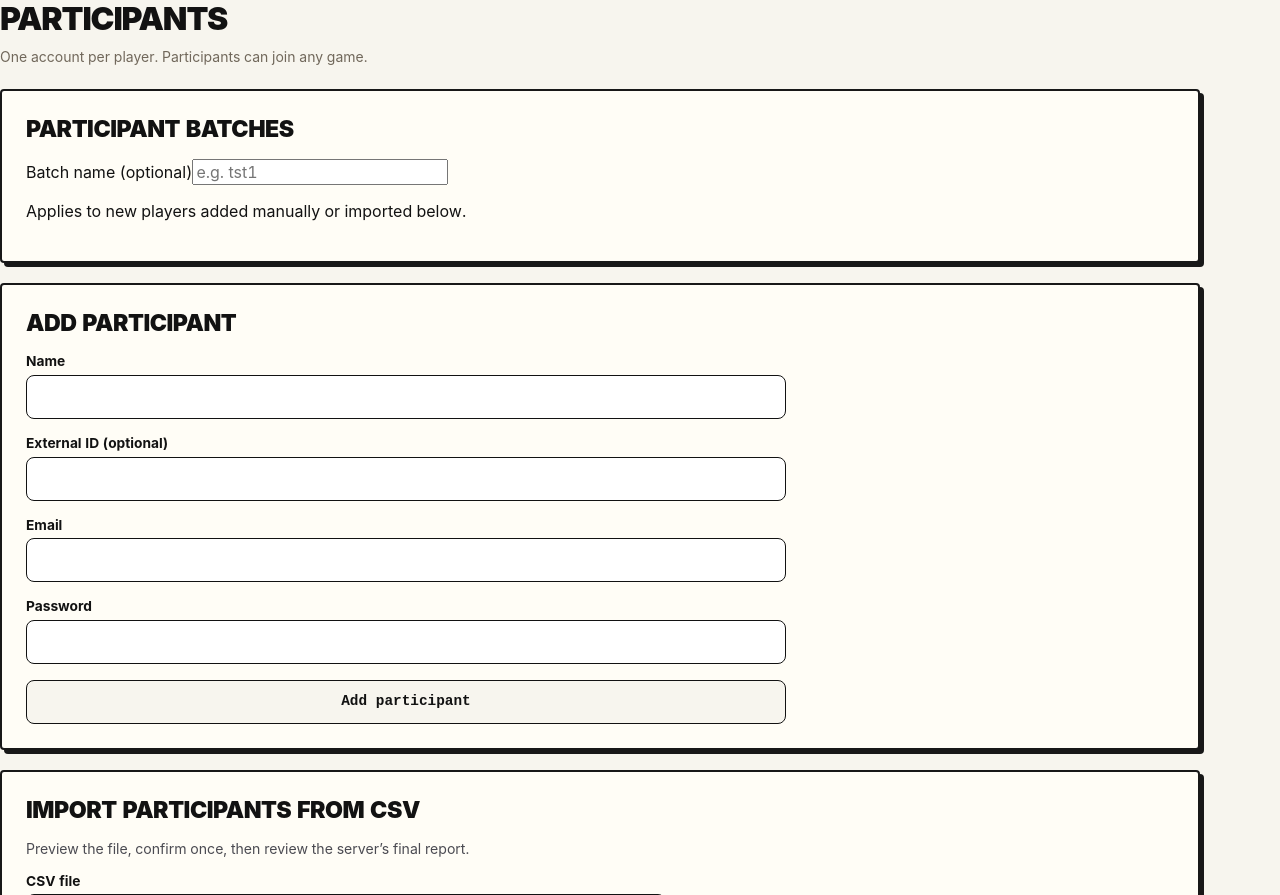
Test: deactivates and reactivates the selected participant using the profile ID
The width and height of the screenshot is (1280, 895).
Type "Test Player" into the field labelled "Name" at [406, 397], box 26,375 -> 786,419
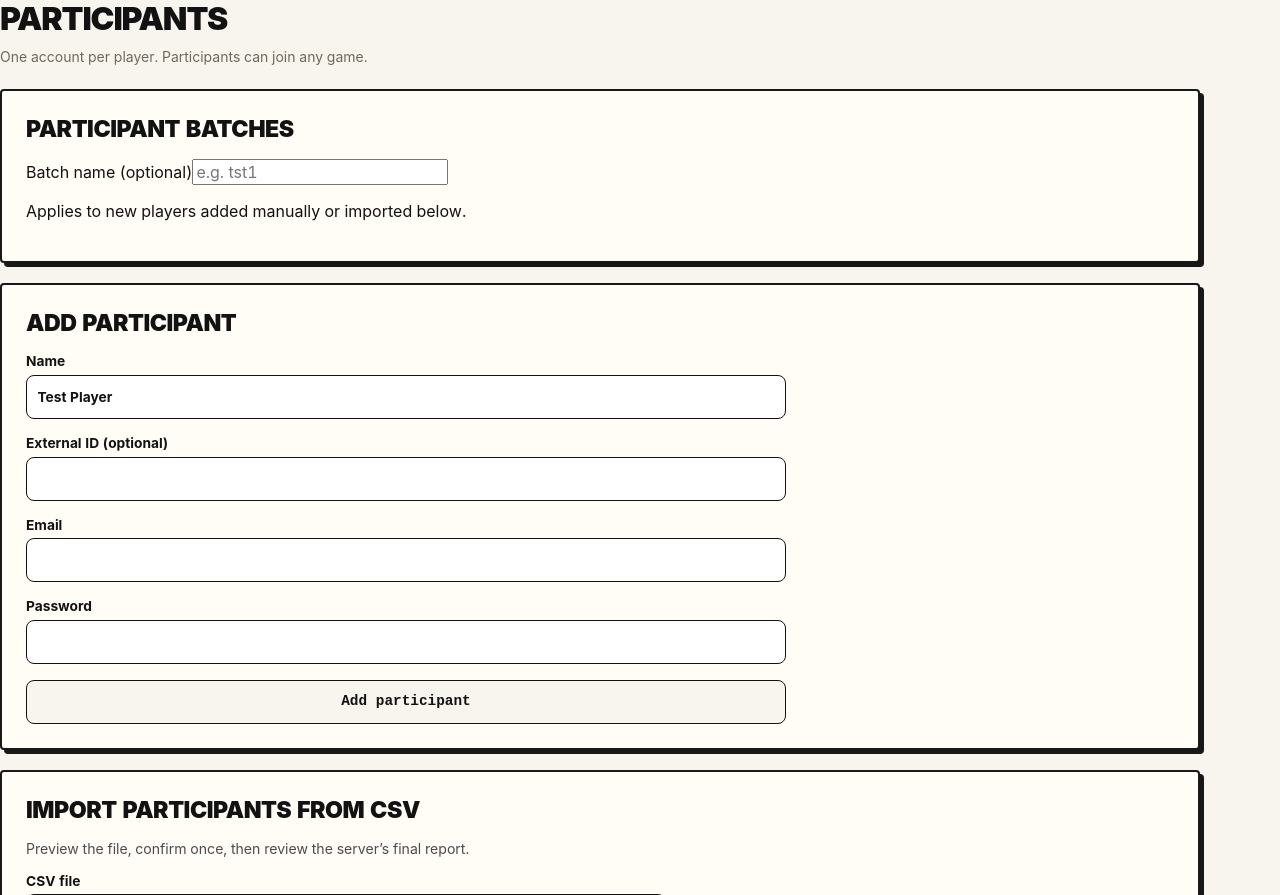
Type "player@example.test" into the field labelled "Email" at [406, 560], box 26,538 -> 786,582
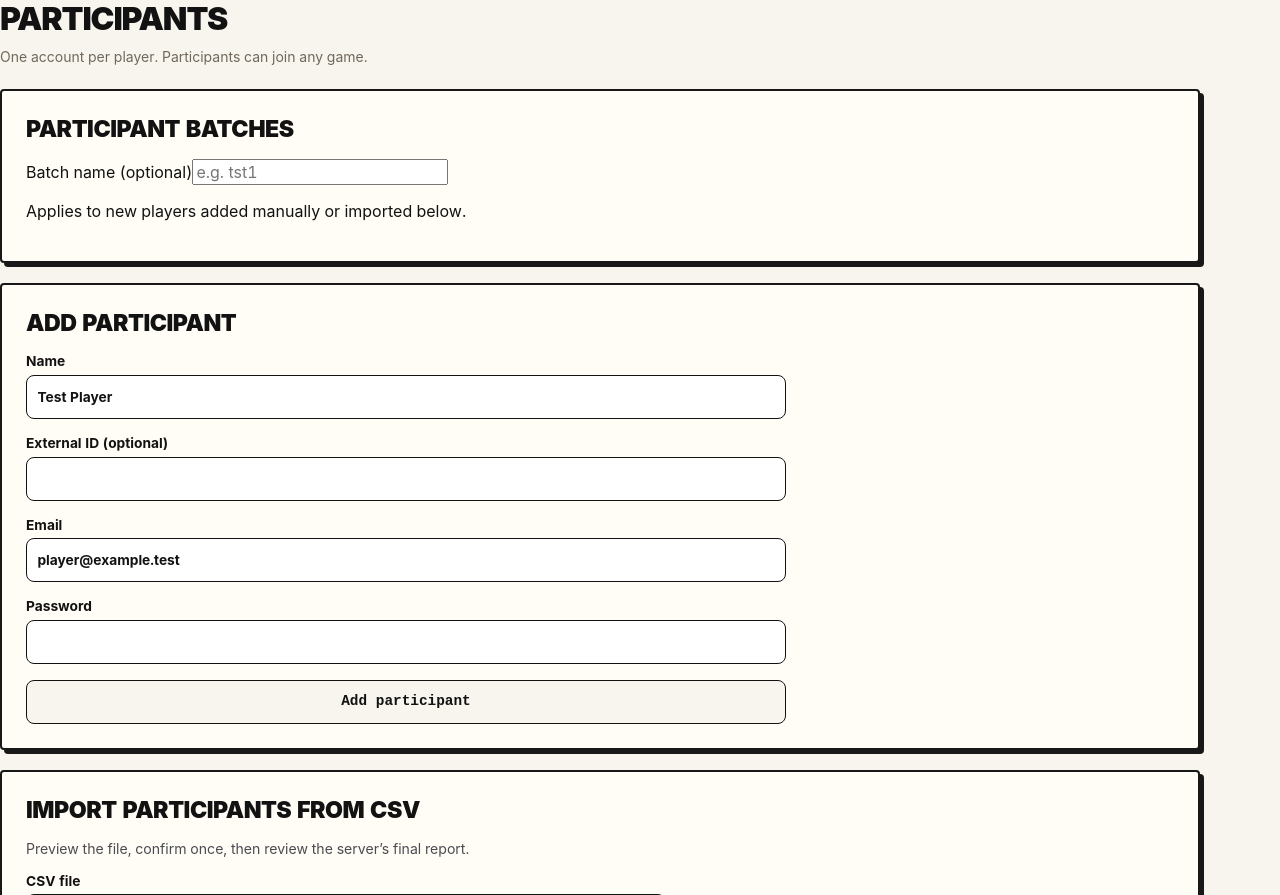
Type "test-password-123" into the password field labelled "Password" at [406, 642], box 26,620 -> 786,664
(page scrolled)
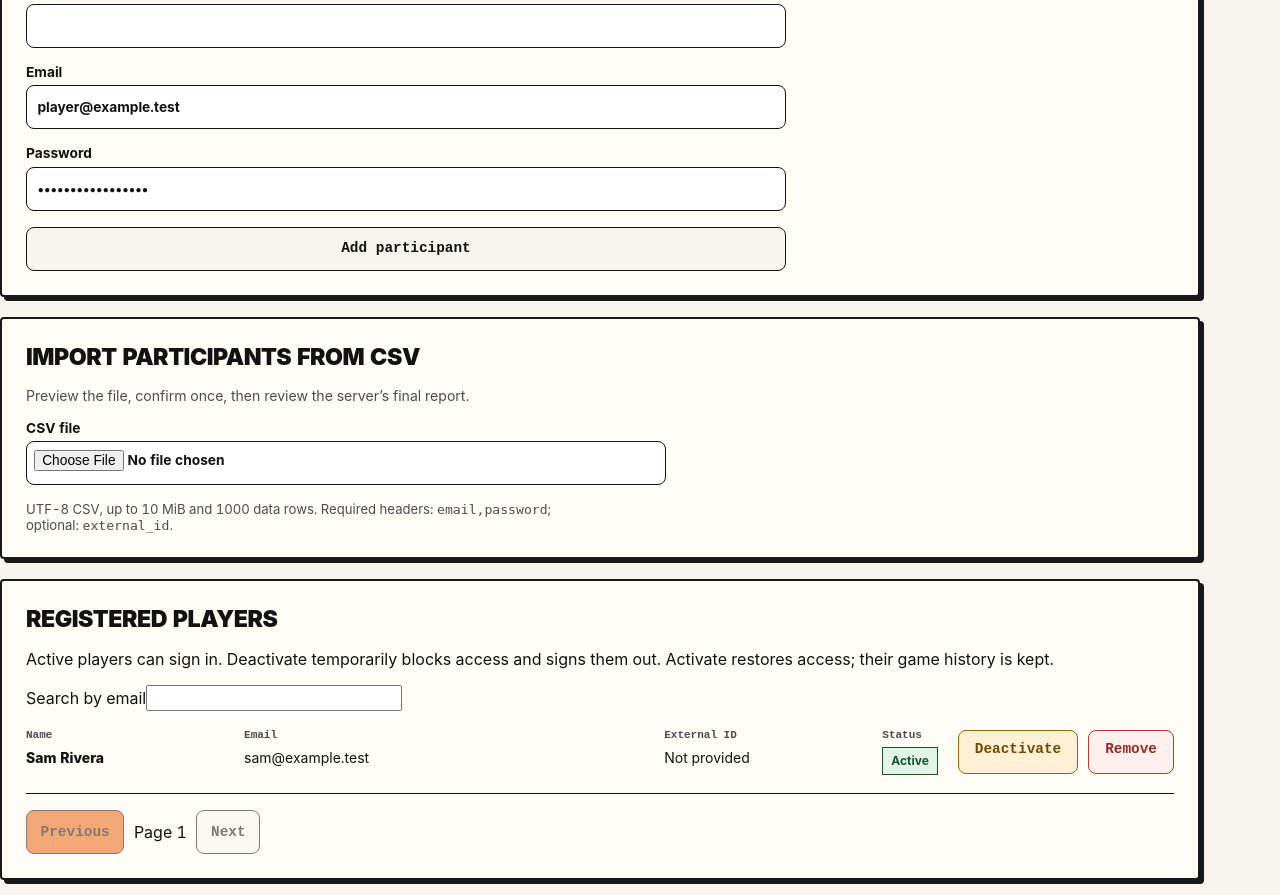
Click the button with aria-label "Deactivate Sam Rivera" at [1018, 752], box 958,730 -> 1078,774
(page scrolled)
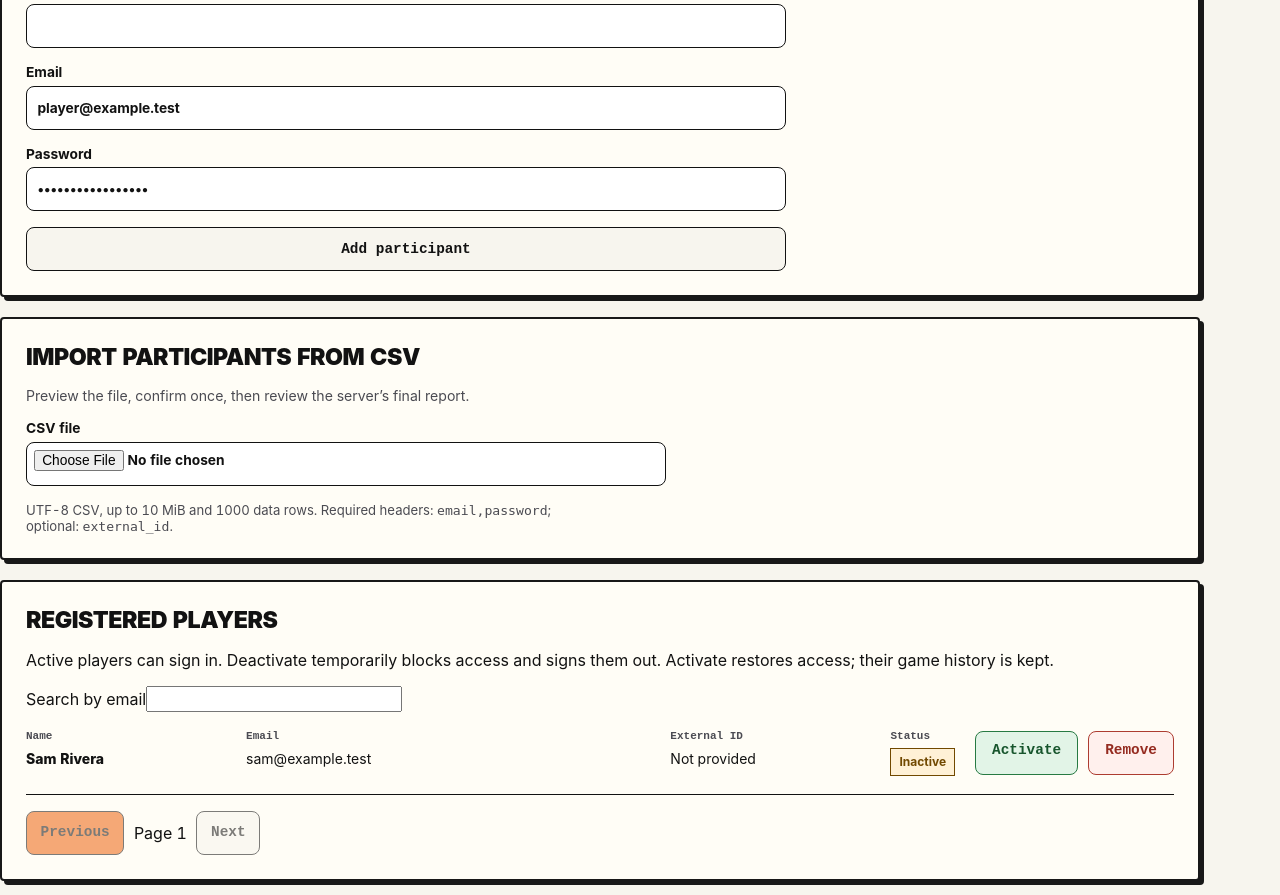
Click the button with aria-label "Activate Sam Rivera" at [1027, 753], box 975,731 -> 1078,775
(page scrolled)
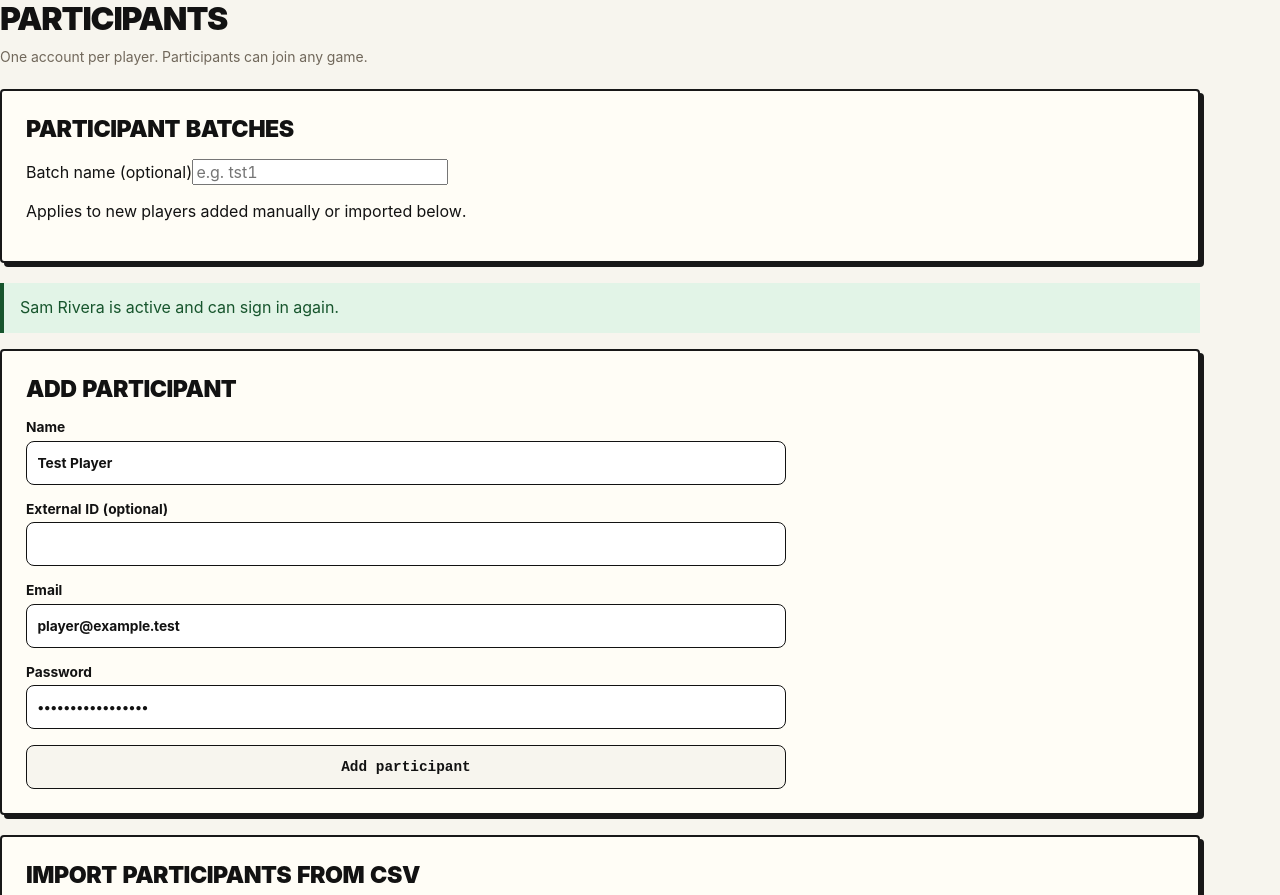
Expected: the text "Sam Rivera is active and can sign in again." is shown, 0,283 -> 1200,333
